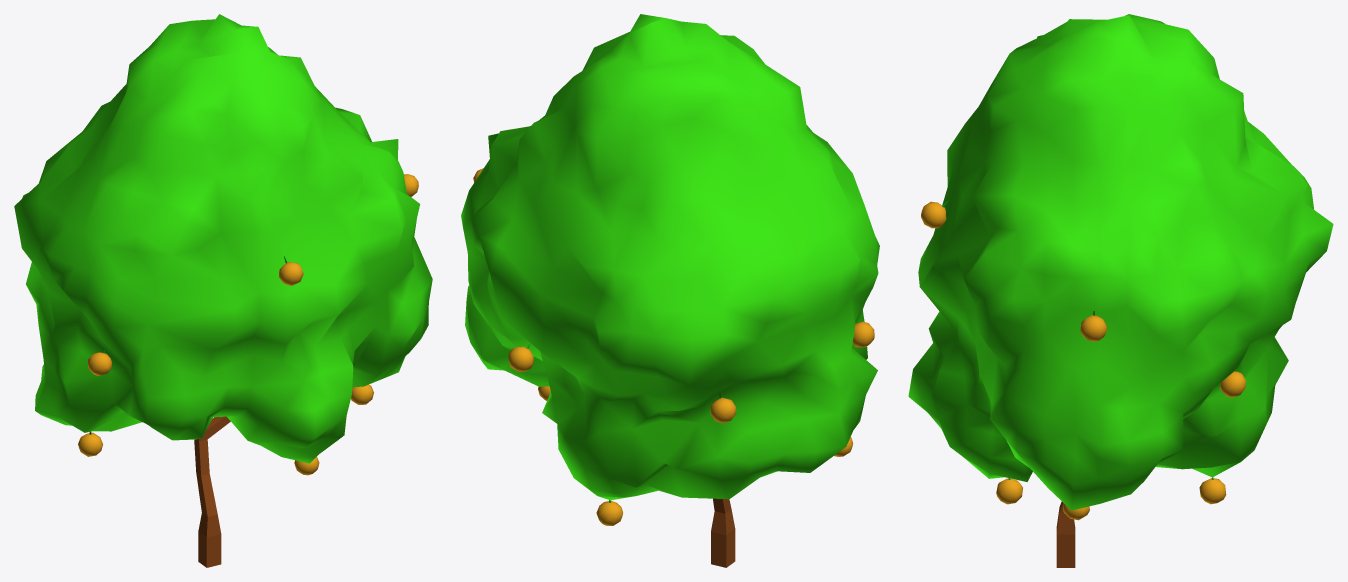
The model's file is SM_OrangeTree_002_LOD3.fbx.
The picture shows the model from 3 angles, left to right: view 1: azimuth 30°, elevation 25°; view 2: azimuth 150°, elevation 25°; view 3: azimuth 270°, elevation 25°; orthographic projection. The views are drawn at different scales.
Parts seen in each view (by area): view 1: OrangeTree_02; view 2: OrangeTree_02; view 3: OrangeTree_02.
Part boxes in pixels (x1,y1,x2,y2): OrangeTree_02: [14, 14, 432, 567]; OrangeTree_02: [461, 14, 879, 567]; OrangeTree_02: [908, 14, 1333, 567].
Size of the model in its own units: 361 by 485 by 328.
